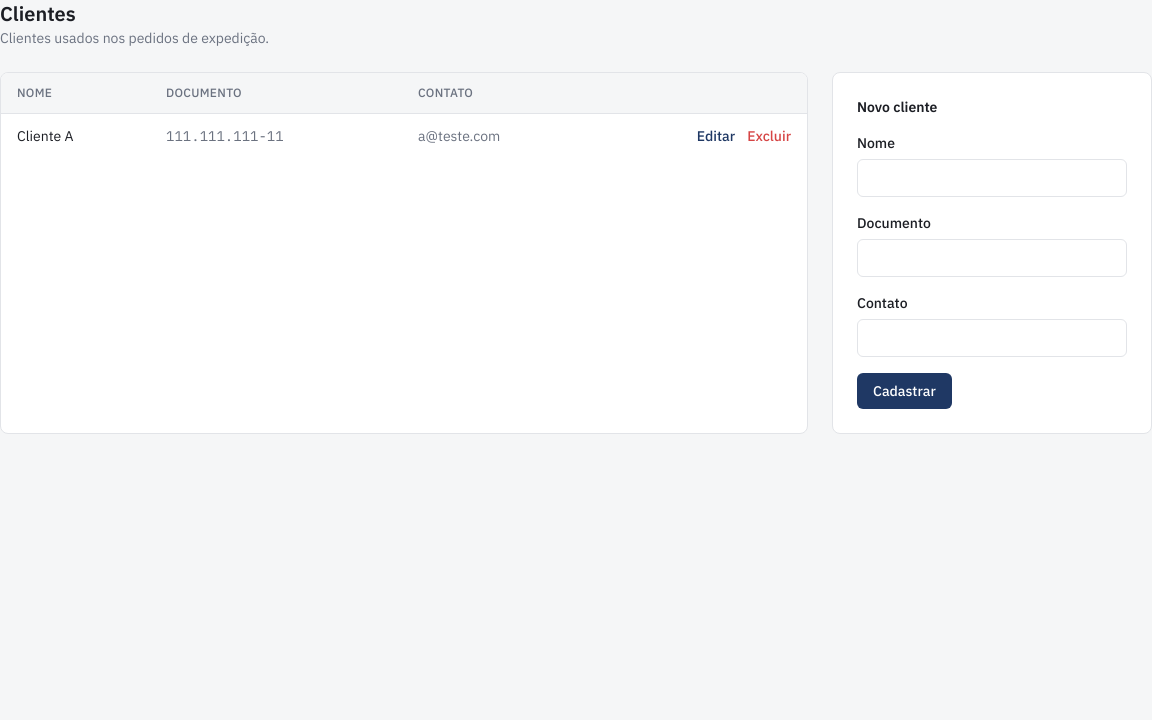
Scenario: ClientesPage › mostra erro da API ao falhar a exclusão (ex.: cliente com pedidos associados)
The width and height of the screenshot is (1152, 720).
Click the button "Excluir" at (769, 136), box top-left (747, 126), bottom-right (791, 146)
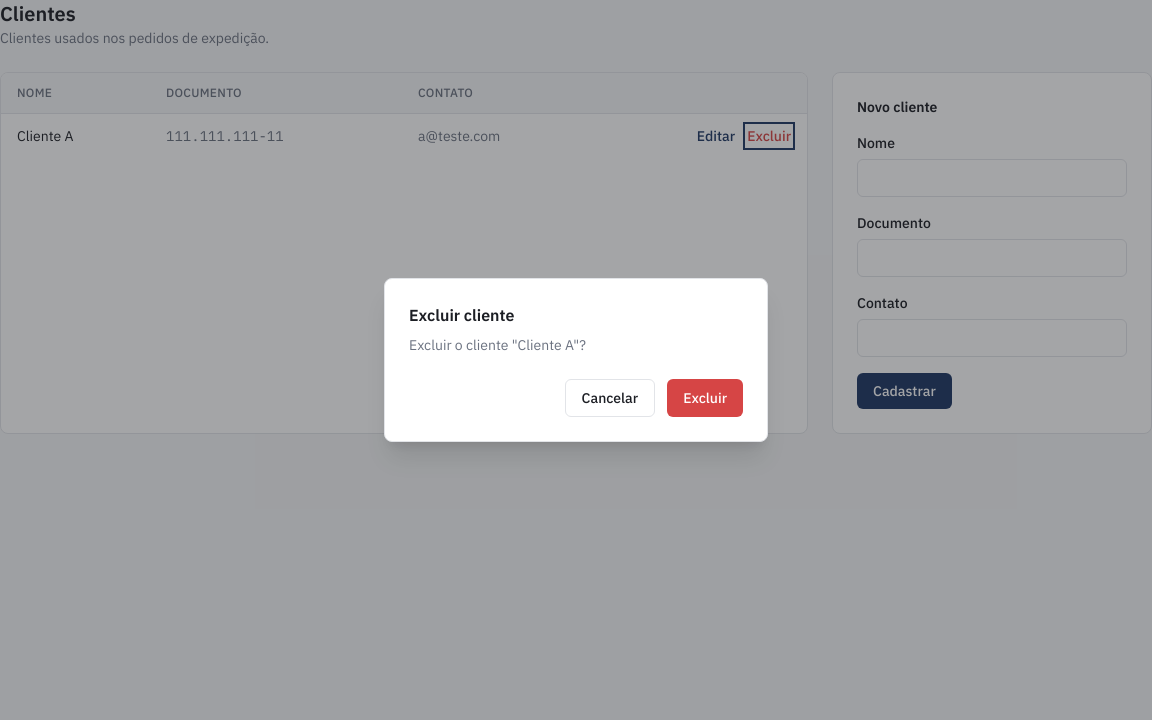
Click the button "Excluir" at (705, 398), box top-left (667, 379), bottom-right (743, 417)
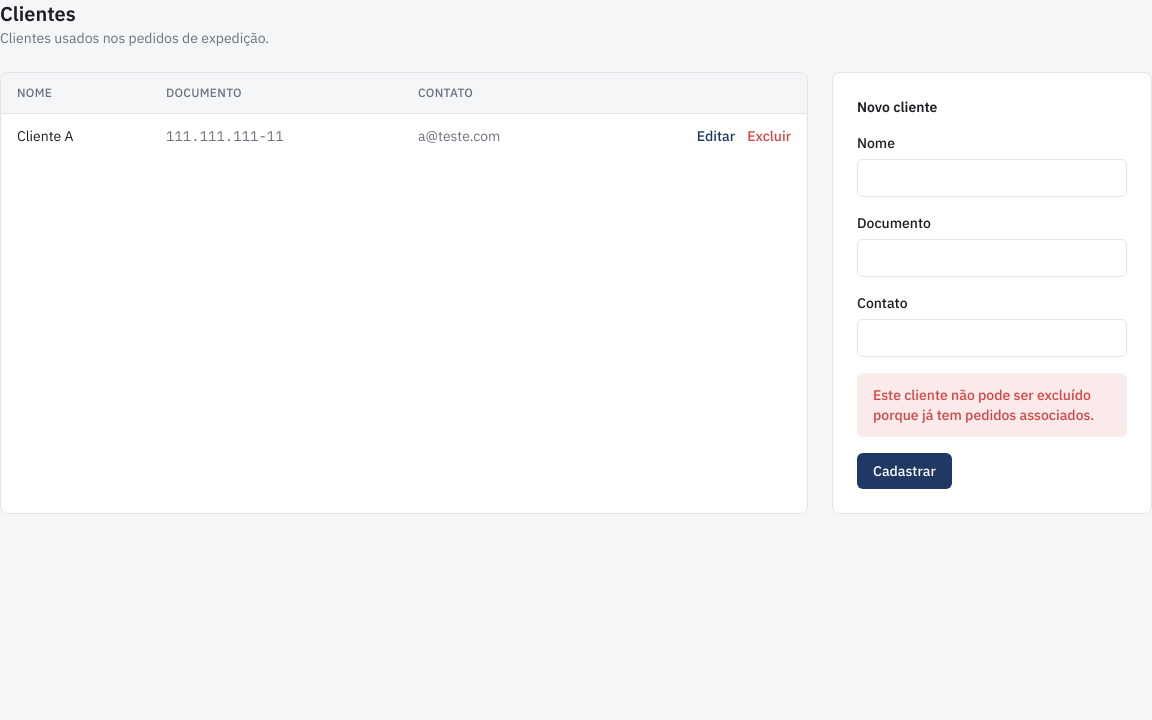
expect the text "Este cliente não pode ser excluído porque já tem pedidos associados." is shown: met, box top-left (857, 373), bottom-right (1127, 437)
